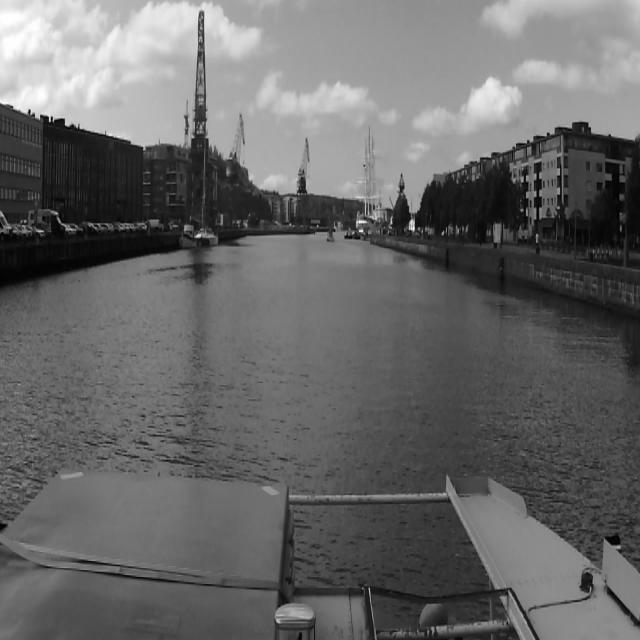ship: (348, 123, 390, 230), (197, 138, 223, 250), (180, 226, 200, 250), (325, 228, 335, 242)
